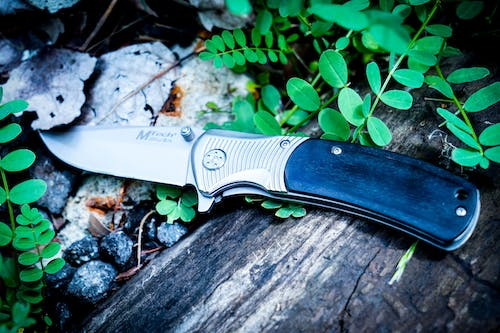knife: (34, 122, 483, 256)
